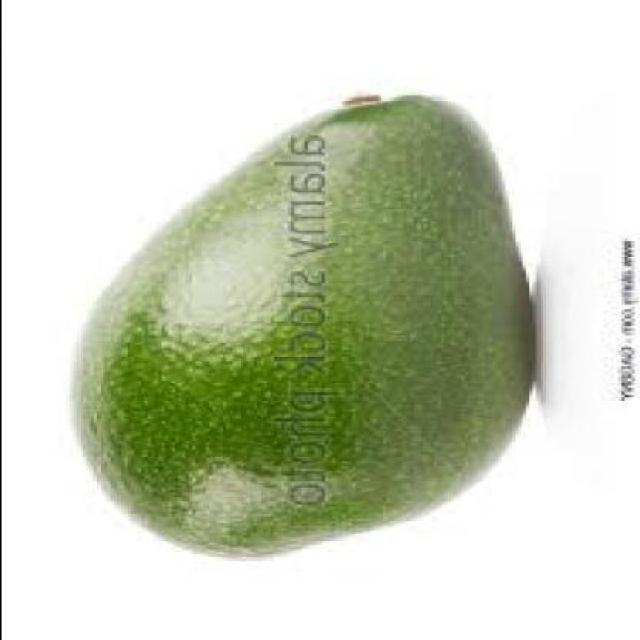BIODEGRADABLE: (60, 91, 538, 558)
